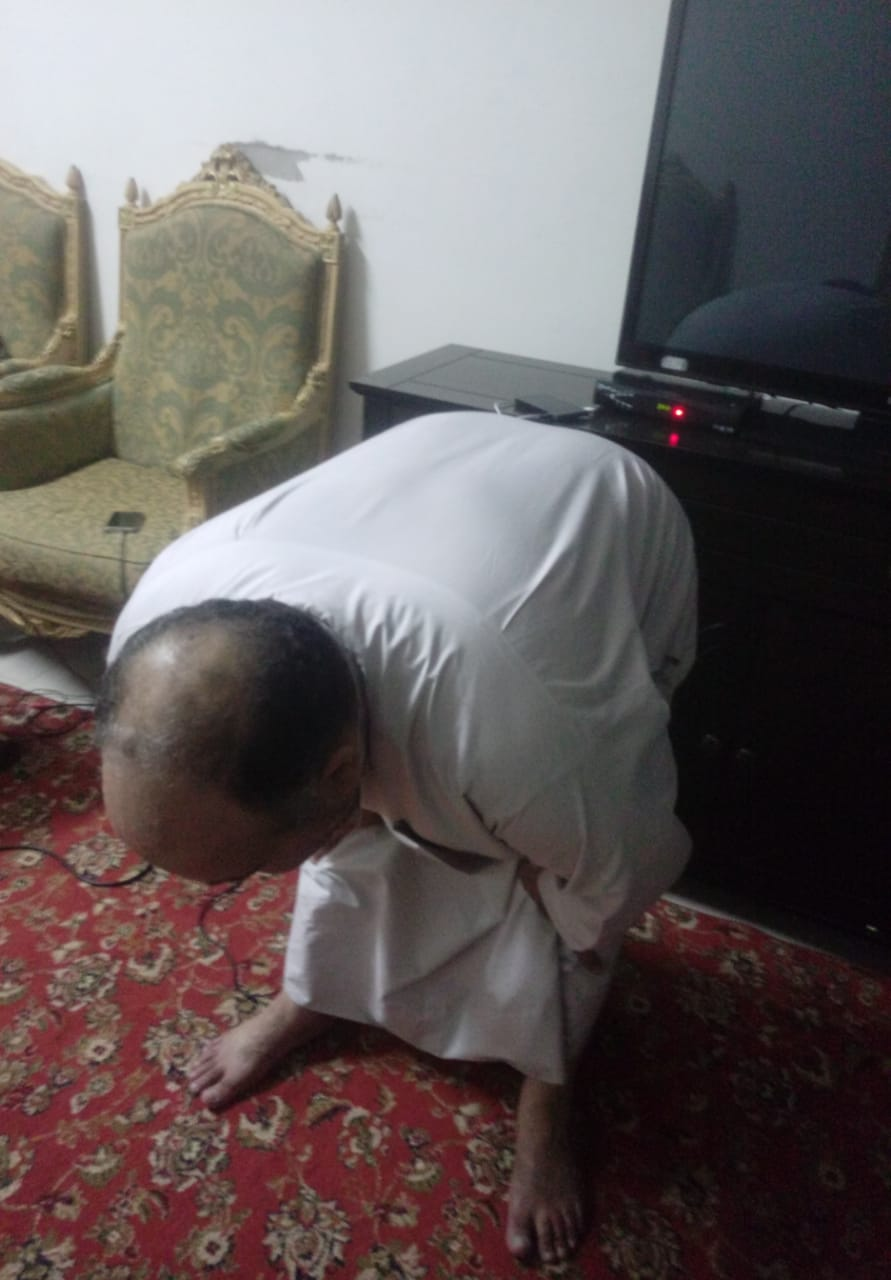ruku: (96, 397, 732, 1268)
